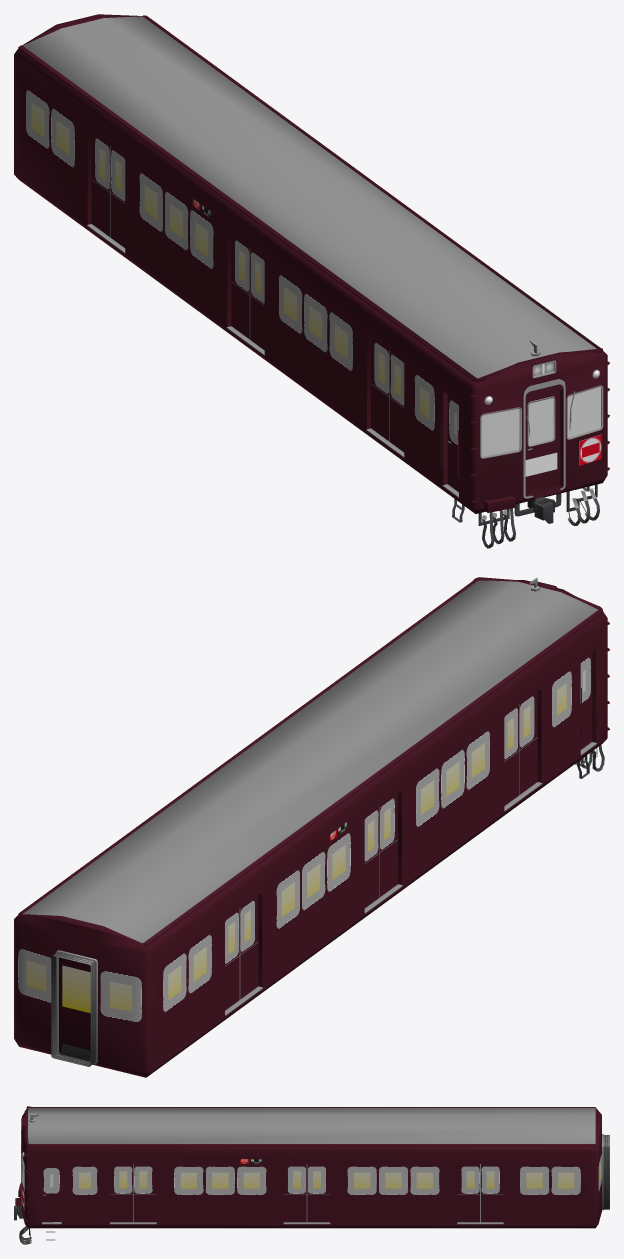
The picture shows the model from 3 angles, top to bottom: view 1: azimuth 30°, elevation 25°; view 2: azimuth 150°, elevation 25°; view 3: azimuth 270°, elevation 25°; orthographic projection. The views are drawn at different scales.
Parts seen in each view (by area): view 1: IN; view 2: IN; view 3: IN.
Boxes of the visible parts, x1,y1,x2,y2 form: IN: [14, 14, 609, 548]; IN: [14, 577, 609, 1077]; IN: [14, 1106, 609, 1244].
Bounding box in the file's own units: 6.68 × 8.41 × 39.48.
30 materials, 28 textured.
